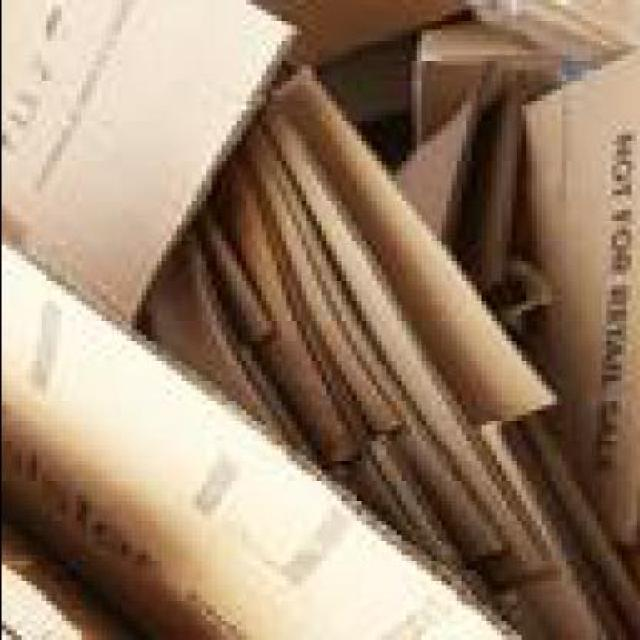cardboard: (2, 254, 530, 638), (245, 120, 564, 591), (235, 120, 520, 545), (266, 64, 551, 424), (2, 3, 290, 326), (200, 155, 431, 556), (511, 55, 635, 540), (135, 240, 320, 460), (490, 420, 636, 638), (400, 26, 551, 151), (271, 6, 466, 71)
